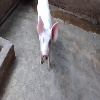heo: (34, 14, 60, 67)
